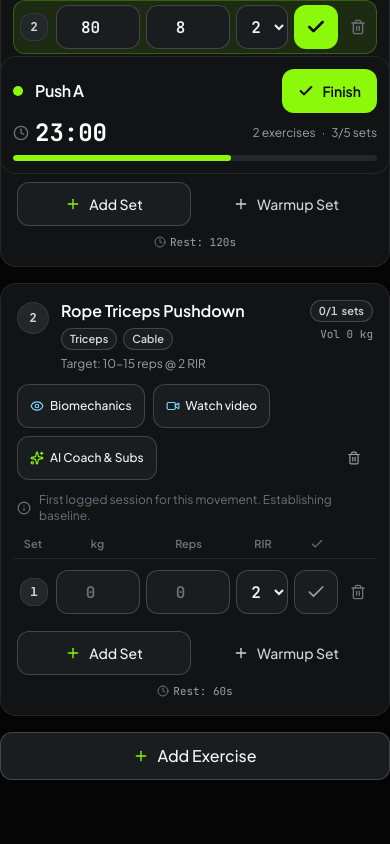
Scenario: add exercise › opens a dialog and requires a movement name
(page scrolled)
Click the button "Add Exercise" at [195, 756], box left=0, top=732, right=389, bottom=780
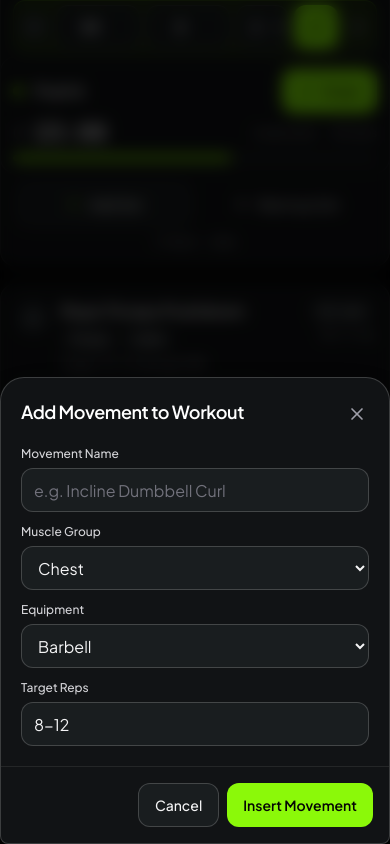
Now the dialog shows "Add Movement to Workout", box left=21, top=400, right=244, bottom=423
Now the button "Insert Movement" is shown
Click the button "Insert Movement" at [300, 805], box left=227, top=783, right=373, bottom=827
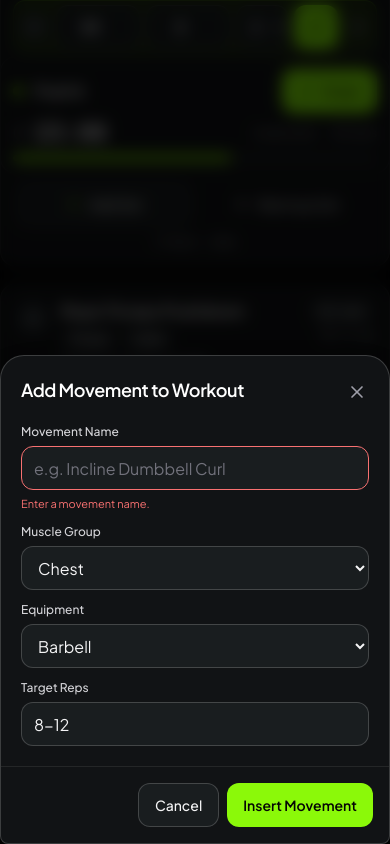
Now the message "Enter a movement name." is shown, box left=21, top=497, right=150, bottom=510
